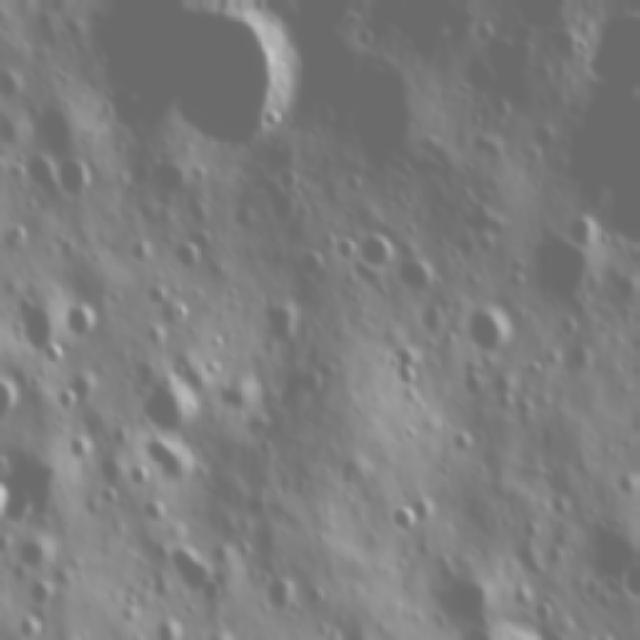crater: (94, 5, 288, 157), (515, 213, 599, 304), (168, 534, 232, 609), (422, 565, 492, 629), (456, 294, 522, 360), (144, 372, 202, 438), (153, 429, 198, 494), (394, 250, 448, 296), (352, 224, 399, 267), (57, 153, 100, 199), (259, 573, 298, 613), (50, 377, 87, 418), (177, 229, 205, 280), (71, 298, 106, 336), (391, 494, 423, 535), (67, 430, 98, 468), (334, 234, 364, 263)
